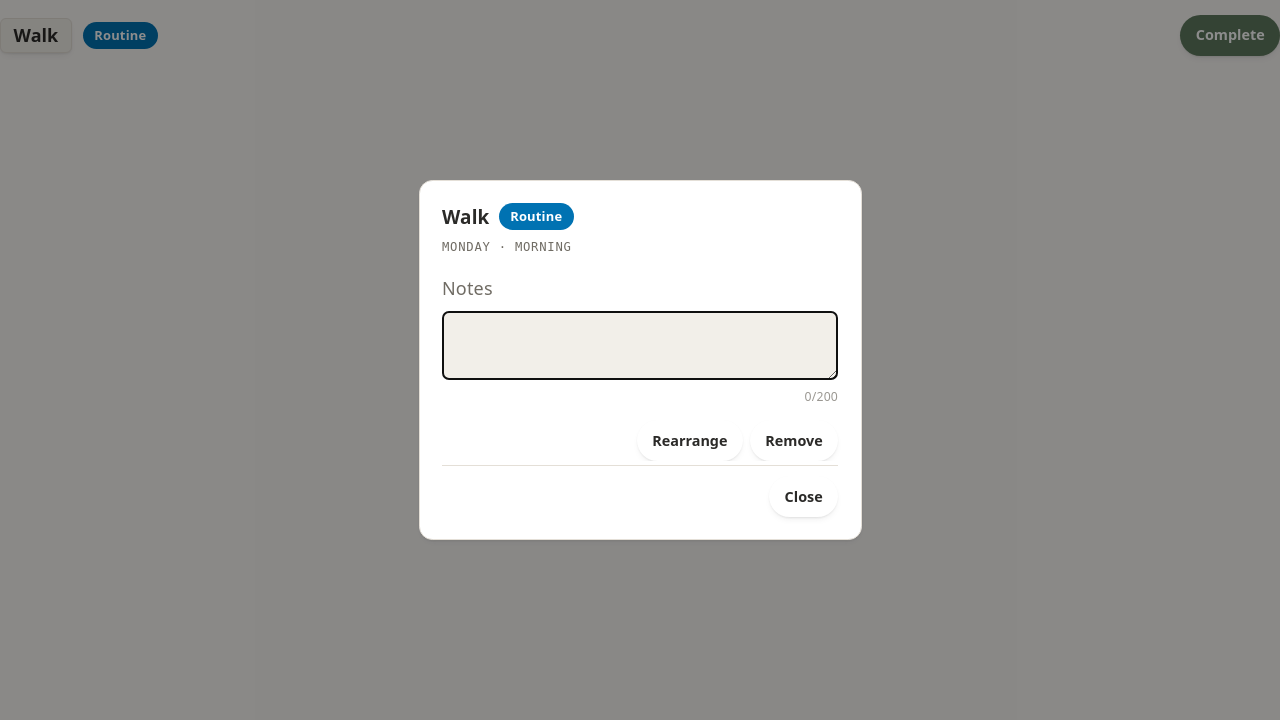
Test case: FRONTEND-043-AC-04: character limit and counter › caps input at 200 characters and shows a live count
The image size is (1280, 720).
Type "Book A" into the text box labelled "Notes". click: (640, 346)
box: [442,311,838,380]
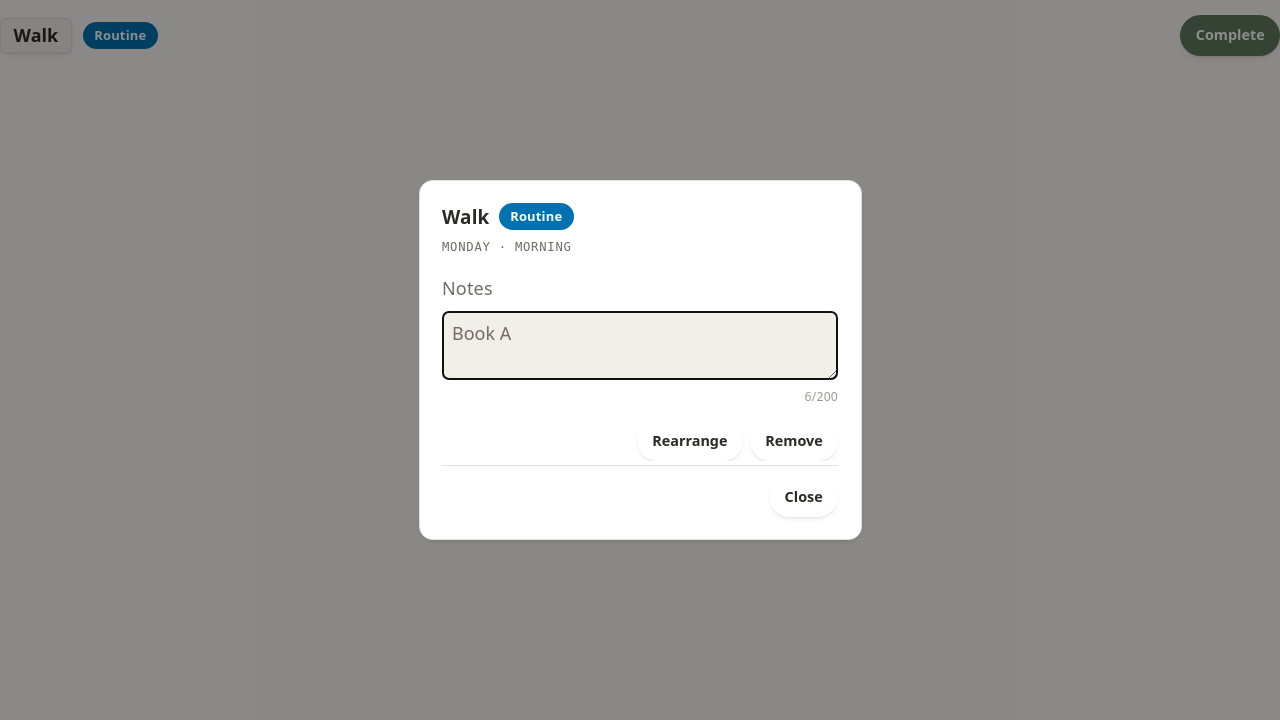
Now the text "6/200" is shown, box [804,384,838,410]
